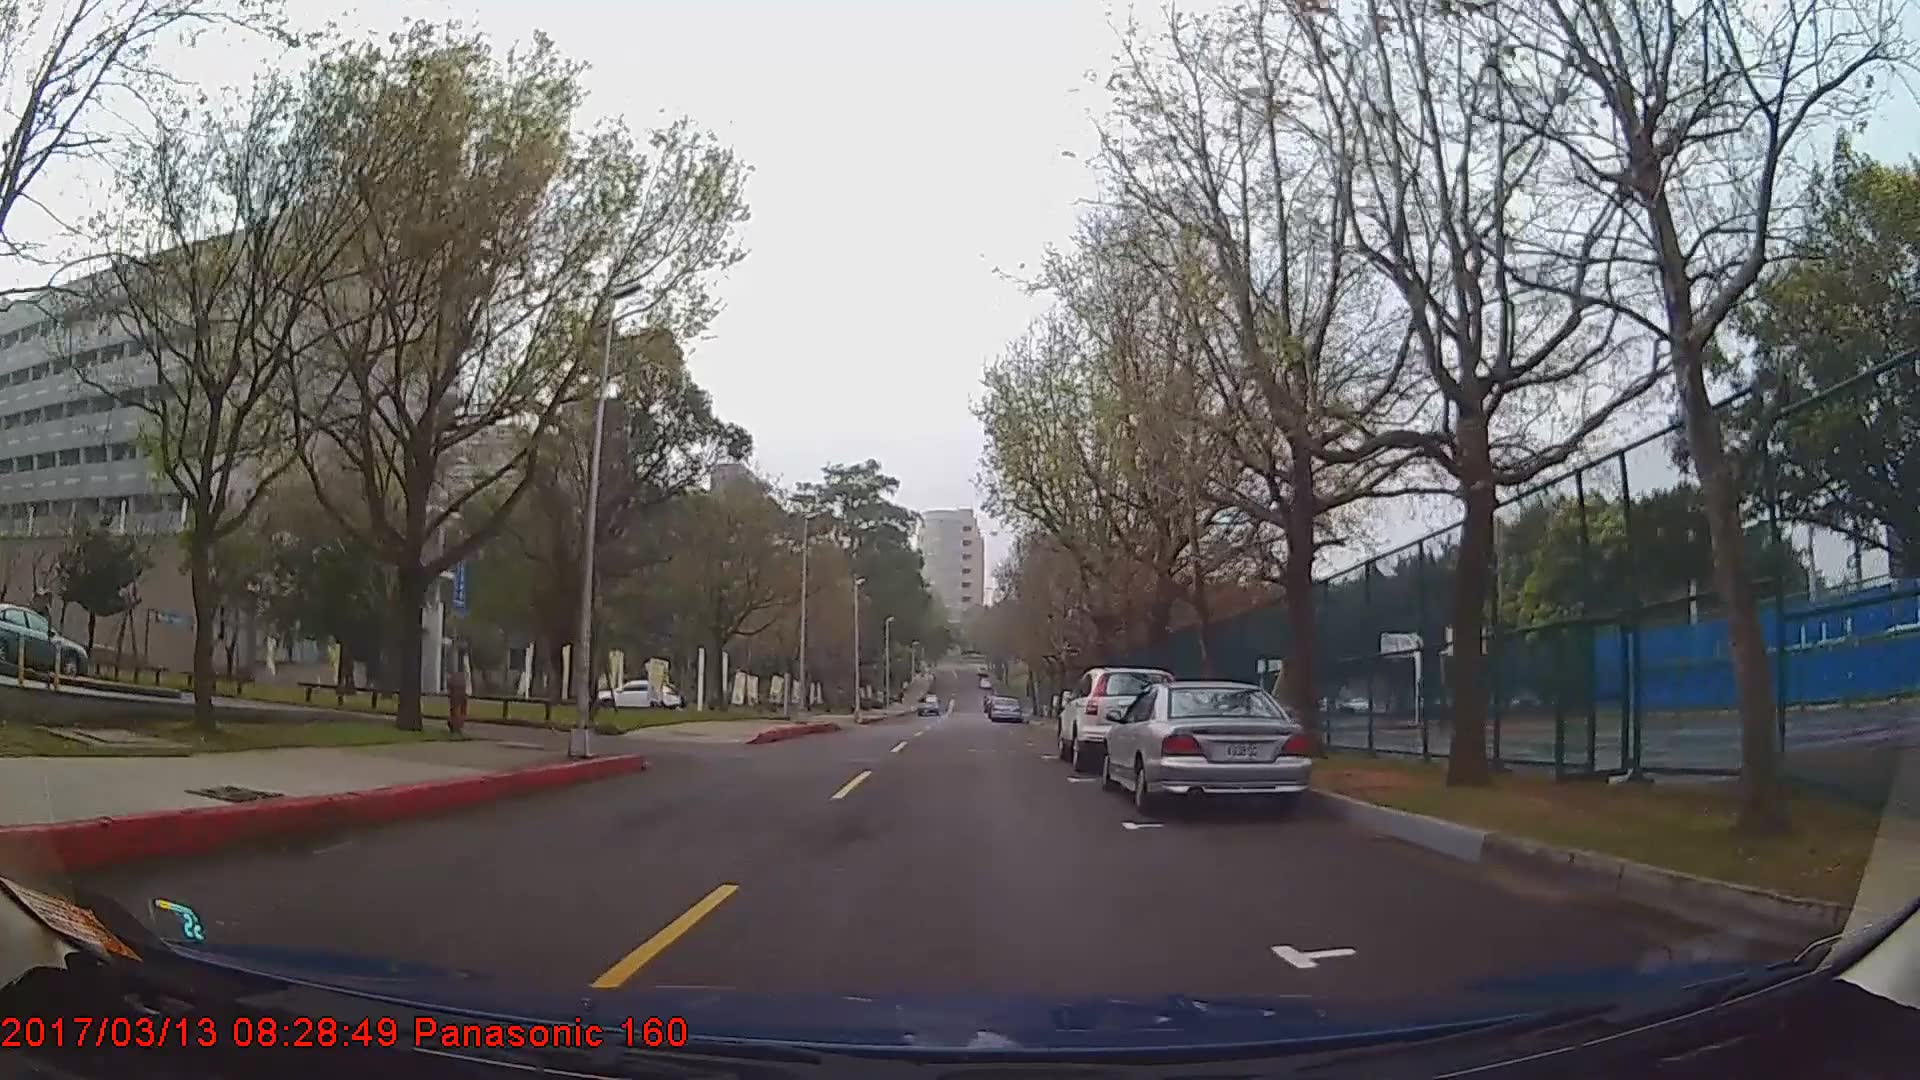vehicle: (1098, 679, 1311, 811), (1055, 667, 1174, 769), (0, 599, 83, 680), (595, 678, 683, 709), (986, 694, 1021, 720)
